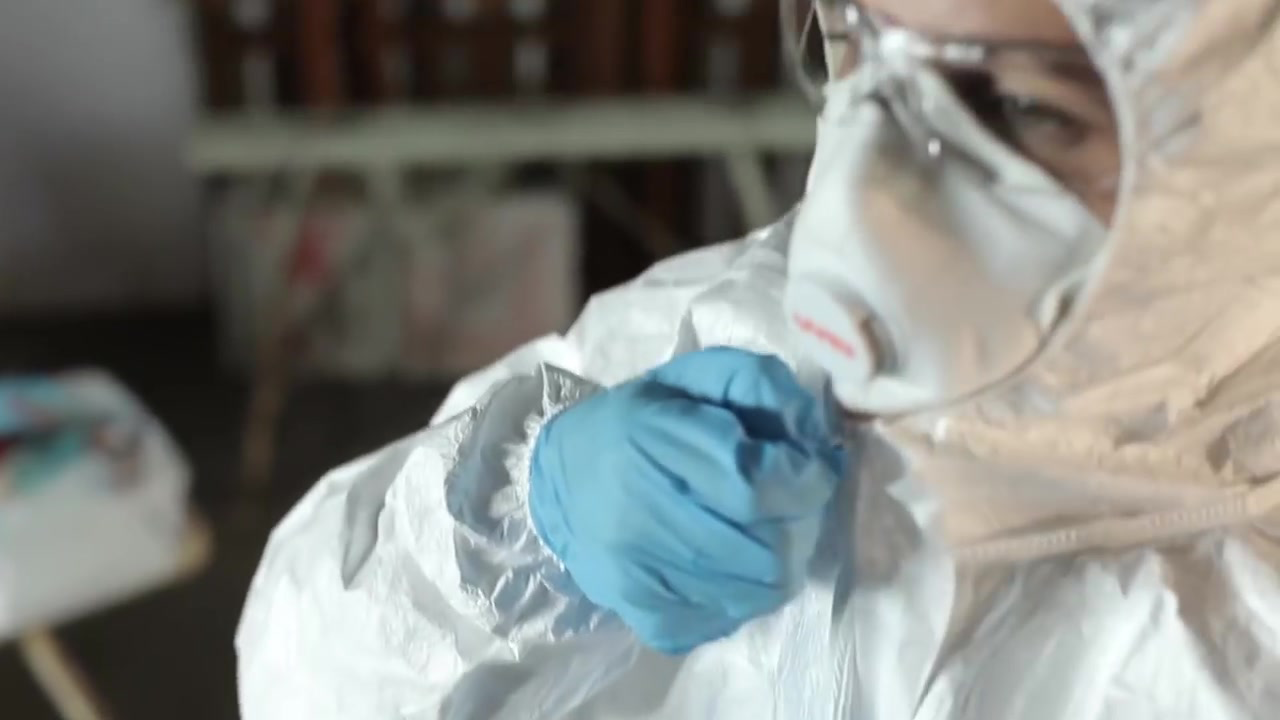Gloves: (531, 357, 849, 648)
Goggles: (776, 1, 1107, 144)
with_mask: (780, 47, 1092, 422)
